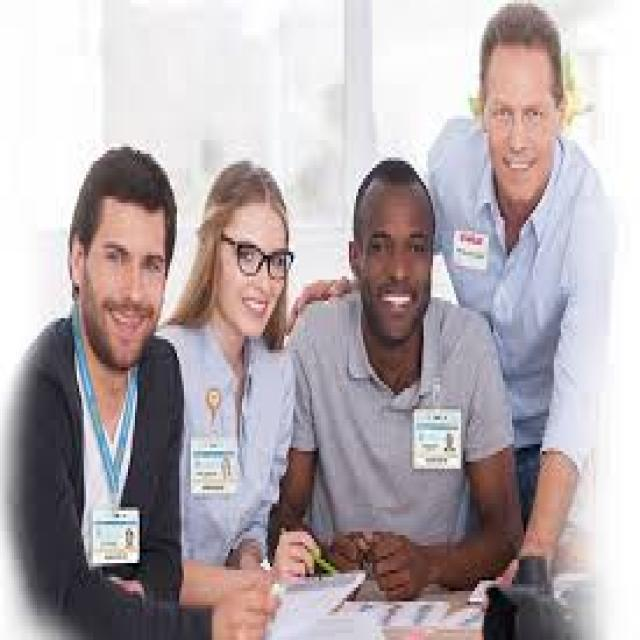id_card: (79, 336, 145, 574)
